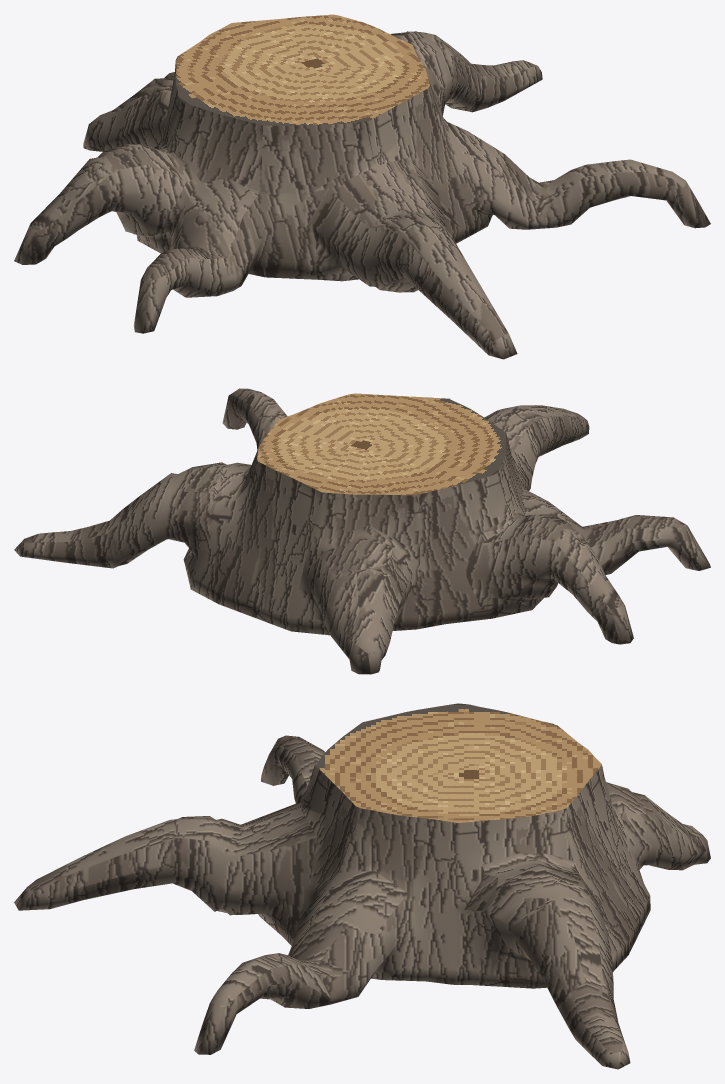
File: environment_elm3_stump_v72.fbx
The picture shows the model from 3 angles, top to bottom: view 1: azimuth 30°, elevation 25°; view 2: azimuth 150°, elevation 25°; view 3: azimuth 270°, elevation 25°; orthographic projection. The views are drawn at different scales.
Parts seen in each view (by area): view 1: environment_elm3_stump_v72; view 2: environment_elm3_stump_v72; view 3: environment_elm3_stump_v72.
Part boxes in pixels (x1=…): environment_elm3_stump_v72: x1=14, y1=14, x2=710, y2=359; environment_elm3_stump_v72: x1=14, y1=388, x2=710, y2=674; environment_elm3_stump_v72: x1=14, y1=703, x2=710, y2=1069.
Size of the model in its own units: 536 by 115 by 517.
Materials: 2 (2 with a texture image).
